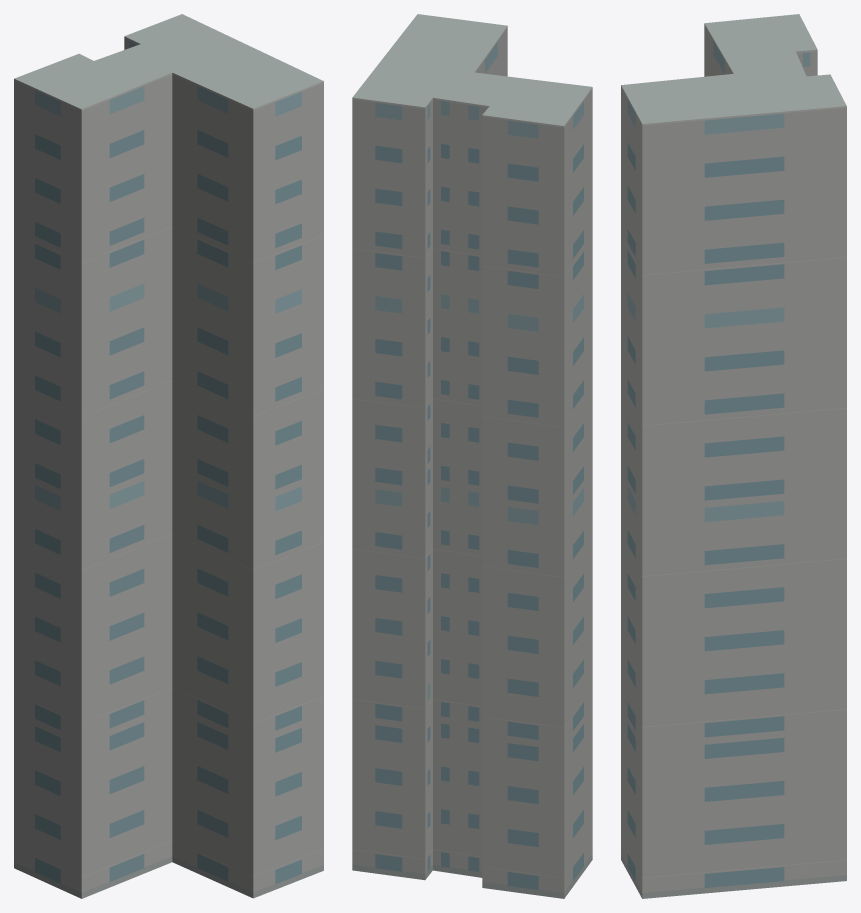
The model's file is survey-upis-32949049.glb.
The picture shows the model from 3 angles, left to right: view 1: azimuth 30°, elevation 25°; view 2: azimuth 150°, elevation 25°; view 3: azimuth 270°, elevation 25°; orthographic projection. The views are drawn at different scales.
Visible parts, largest first — view 1: survey-upis-32949049.tmp; view 2: survey-upis-32949049.tmp; view 3: survey-upis-32949049.tmp.
Boxes of the visible parts, x1,y1,x2,y2 form: survey-upis-32949049.tmp: (14,14,323,898); survey-upis-32949049.tmp: (352,14,592,898); survey-upis-32949049.tmp: (621,14,846,898).
Size of the model in its own units: 33.46 by 110 by 29.02.
